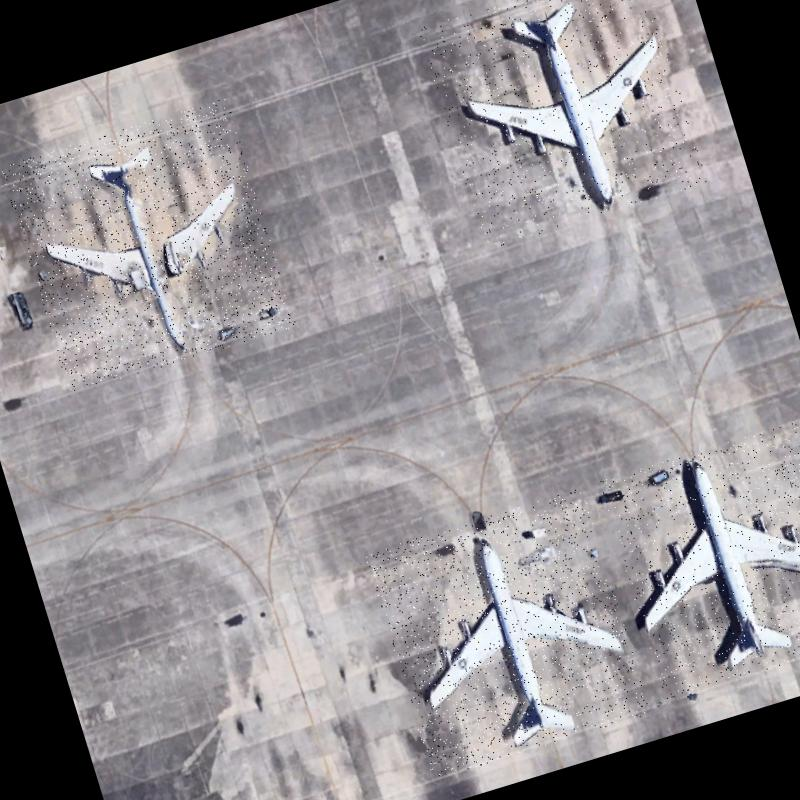A11: (0, 97, 297, 396), (364, 488, 652, 780), (418, 0, 708, 250), (598, 416, 800, 700)
